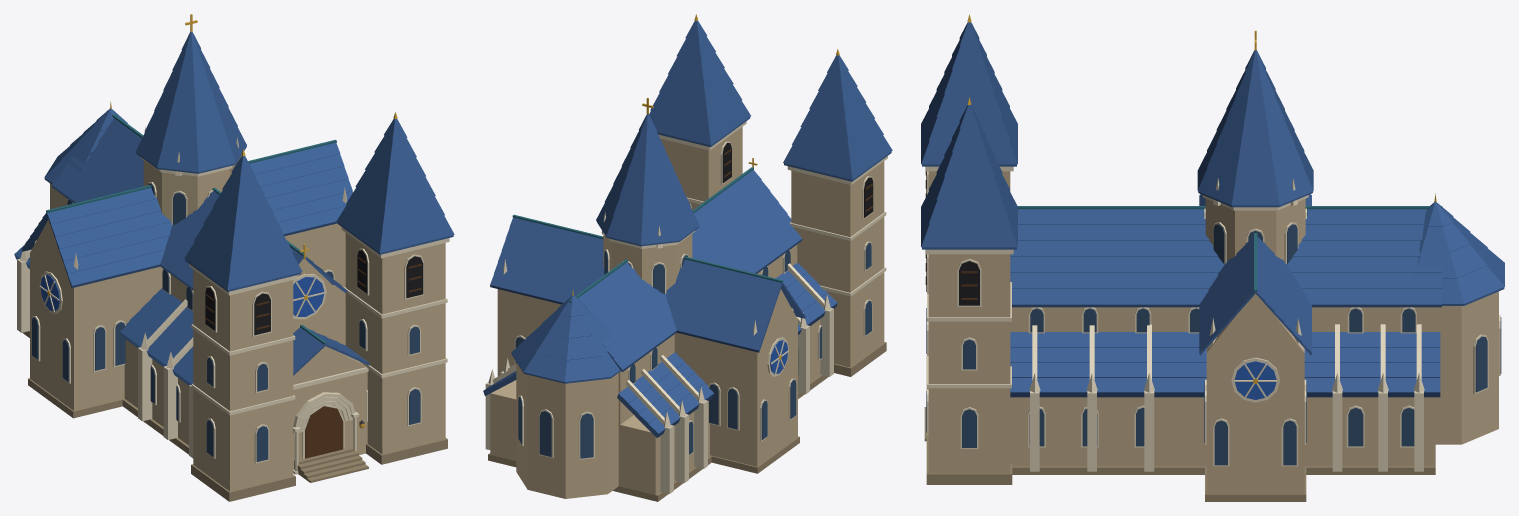
Rendered from Cathedral.fbx.
3 views of the same model, side by side, from view 1: azimuth 30°, elevation 25°; view 2: azimuth 150°, elevation 25°; view 3: azimuth 270°, elevation 25° (orthographic). The views are drawn at different scales.
Visible parts, largest first — view 1: Cathedral; view 2: Cathedral; view 3: Cathedral.
Boxes of the visible parts, <box> form: Cathedral: <box>14,14,454,501</box>; Cathedral: <box>483,14,892,501</box>; Cathedral: <box>921,14,1504,501</box>.
Bounding box in the file's own units: 22.84 × 26.6 × 35.69.
